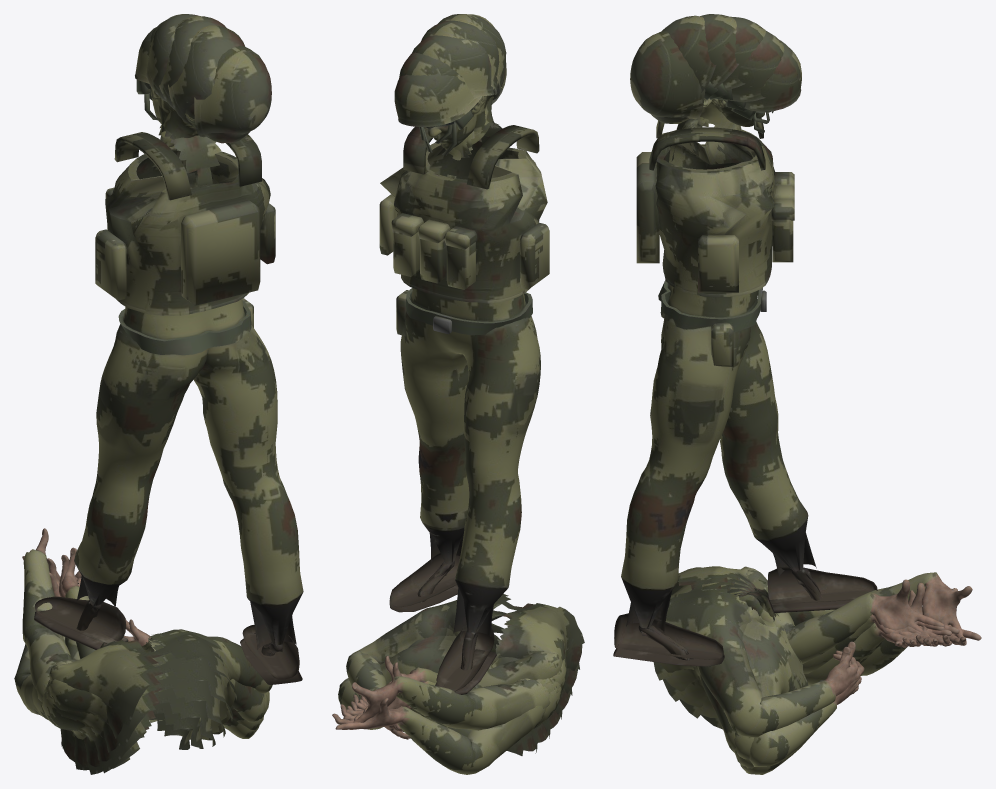
Rendered from crew_igla.glb.
3 views of the same model, side by side, from view 1: azimuth 30°, elevation 25°; view 2: azimuth 150°, elevation 25°; view 3: azimuth 270°, elevation 25° (orthographic). The views are drawn at different scales.
Visible parts, largest first — view 1: turret|STR_ratnik, ca5|STR_ratnik, th5|STR_ratnik, ca1|STR_ratnik, ca4|STR_ratnik, ca3|STR_ratnik, th4|STR_ratnik, ca2|STR_ratnik, th0|STR_ratnik, ca0|STR_ratnik, th3|STR_ratnik, th2|STR_ratnik; view 2: turret|STR_ratnik, ca5|STR_ratnik, ca0|STR_ratnik, ca1|STR_ratnik, th0|STR_ratnik, th2|STR_ratnik, th3|STR_ratnik, ca2|STR_ratnik, th1|STR_ratnik, th4|STR_ratnik, ca4|STR_ratnik, ca3|STR_ratnik (+1 smaller); view 3: turret|STR_ratnik, ca5|STR_ratnik, ca0|STR_ratnik, th5|STR_ratnik, ca1|STR_ratnik, ca4|STR_ratnik, ca3|STR_ratnik, th0|STR_ratnik, th4|STR_ratnik, th1|STR_ratnik, th3|STR_ratnik, ca2|STR_ratnik (+1 smaller).
Boxes of the visible parts, left/top/right/bottom form: turret|STR_ratnik: left=34, top=132, right=303, bottom=684; ca5|STR_ratnik: left=49, top=547, right=272, bottom=745; th5|STR_ratnik: left=158, top=45, right=271, bottom=171; ca1|STR_ratnik: left=22, top=528, right=259, bottom=774; ca4|STR_ratnik: left=49, top=555, right=265, bottom=752; ca3|STR_ratnik: left=45, top=572, right=268, bottom=763; th4|STR_ratnik: left=163, top=25, right=244, bottom=172; ca2|STR_ratnik: left=42, top=558, right=263, bottom=773; th0|STR_ratnik: left=135, top=27, right=221, bottom=172; ca0|STR_ratnik: left=14, top=556, right=269, bottom=770; th3|STR_ratnik: left=159, top=16, right=226, bottom=172; th2|STR_ratnik: left=146, top=14, right=220, bottom=173; turret|STR_ratnik: left=379, top=125, right=549, bottom=694; ca5|STR_ratnik: left=346, top=594, right=584, bottom=739; ca0|STR_ratnik: left=332, top=645, right=546, bottom=774; ca1|STR_ratnik: left=346, top=639, right=550, bottom=744; th0|STR_ratnik: left=394, top=73, right=502, bottom=157; th2|STR_ratnik: left=412, top=35, right=500, bottom=157; th3|STR_ratnik: left=421, top=20, right=500, bottom=157; ca2|STR_ratnik: left=343, top=634, right=562, bottom=737; th1|STR_ratnik: left=399, top=52, right=501, bottom=159; th4|STR_ratnik: left=438, top=14, right=506, bottom=160; ca4|STR_ratnik: left=363, top=610, right=579, bottom=738; ca3|STR_ratnik: left=346, top=623, right=572, bottom=732; turret|STR_ratnik: left=613, top=118, right=877, bottom=666; ca5|STR_ratnik: left=659, top=566, right=944, bottom=737; ca0|STR_ratnik: left=738, top=588, right=981, bottom=766; th5|STR_ratnik: left=630, top=30, right=741, bottom=130; ca1|STR_ratnik: left=701, top=572, right=972, bottom=774; ca4|STR_ratnik: left=653, top=577, right=944, bottom=753; ca3|STR_ratnik: left=663, top=582, right=952, bottom=759; th0|STR_ratnik: left=676, top=40, right=801, bottom=133; th4|STR_ratnik: left=662, top=15, right=740, bottom=130; th1|STR_ratnik: left=683, top=31, right=784, bottom=128; th3|STR_ratnik: left=684, top=14, right=738, bottom=129; ca2|STR_ratnik: left=679, top=582, right=959, bottom=768.
Bounding box in the file's own units: 0.6801 × 2.14 × 0.9864.
13 materials, 13 textured.
